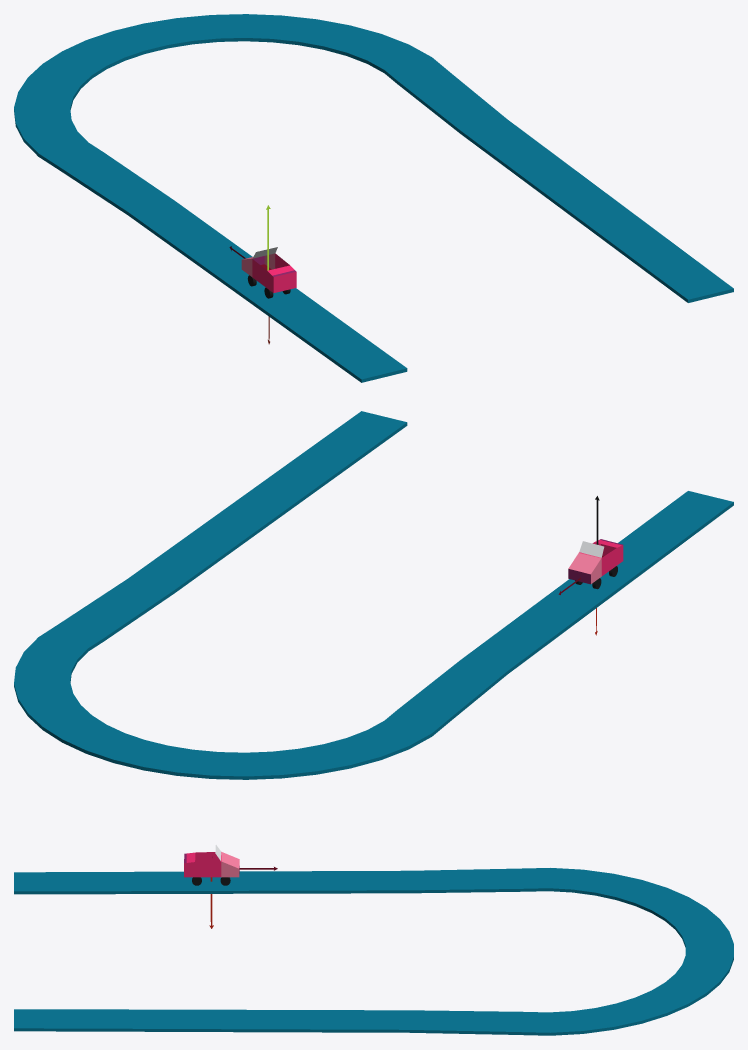
The model's file is Banking.glb.
3 views of the same model, one above another, from view 1: azimuth 30°, elevation 25°; view 2: azimuth 150°, elevation 25°; view 3: azimuth 270°, elevation 25° (orthographic). The views are drawn at different scales.
Parts seen in each view (by area): view 1: road, car; view 2: road, car; view 3: road, car.
Boxes of the visible parts, bbox=[...] form: road: bbox=[14, 14, 733, 382]; car: bbox=[241, 247, 296, 298]; road: bbox=[14, 411, 733, 779]; car: bbox=[568, 539, 623, 589]; road: bbox=[14, 868, 733, 1035]; car: bbox=[184, 845, 239, 885].
Size of the model in its own units: 51.66 by 17.63 by 95.27.
3 materials, 3 textured.
